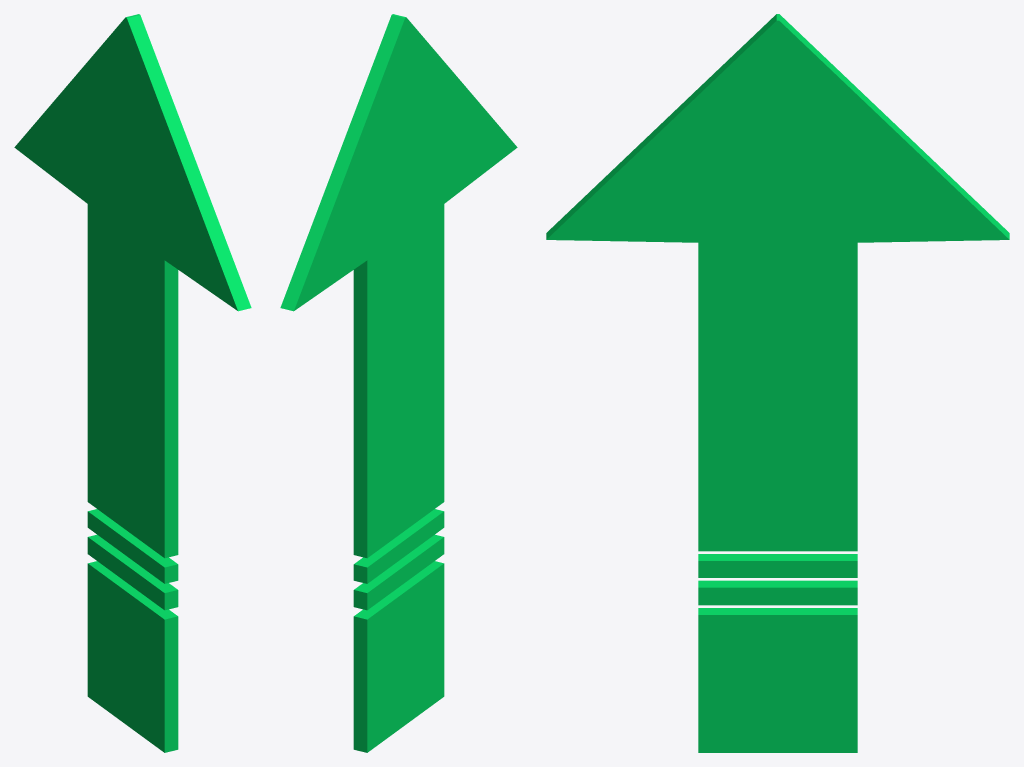
The model's file is Jump.fbx.
The picture shows the model from 3 angles, left to right: view 1: azimuth 30°, elevation 25°; view 2: azimuth 150°, elevation 25°; view 3: azimuth 270°, elevation 25°; orthographic projection. The views are drawn at different scales.
Visible parts, largest first — view 1: Cube; view 2: Cube; view 3: Cube.
Boxes of the visible parts, left/top/right/bottom form: Cube: left=14, top=14, right=251, bottom=752; Cube: left=280, top=14, right=517, bottom=752; Cube: left=546, top=14, right=1009, bottom=752.
Size of the model in its own units: 20.3 by 1015 by 582.
